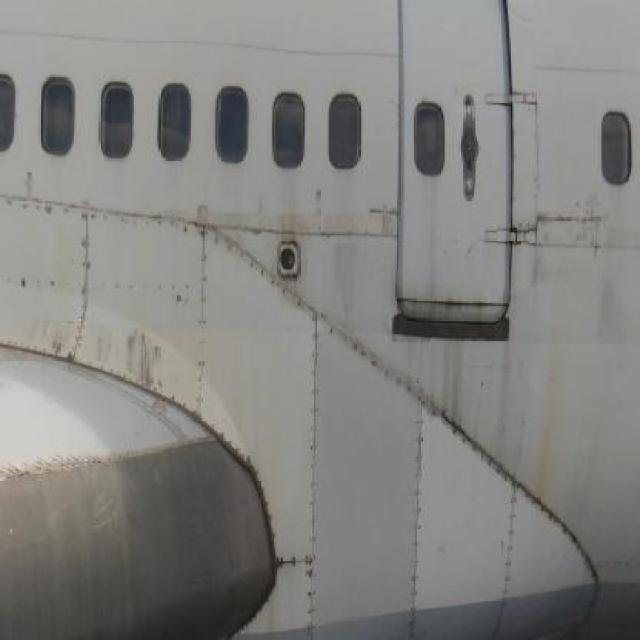Missing-Rivet: (6, 186, 226, 248), (528, 482, 609, 622), (298, 291, 327, 640), (326, 324, 414, 413), (406, 366, 434, 640), (487, 449, 524, 640), (2, 264, 187, 301), (226, 232, 294, 313), (185, 232, 213, 420), (61, 243, 99, 371), (433, 388, 485, 480)
Rust: (542, 320, 562, 511)
Scartch: (526, 193, 614, 276), (116, 323, 181, 422), (332, 205, 410, 260)
